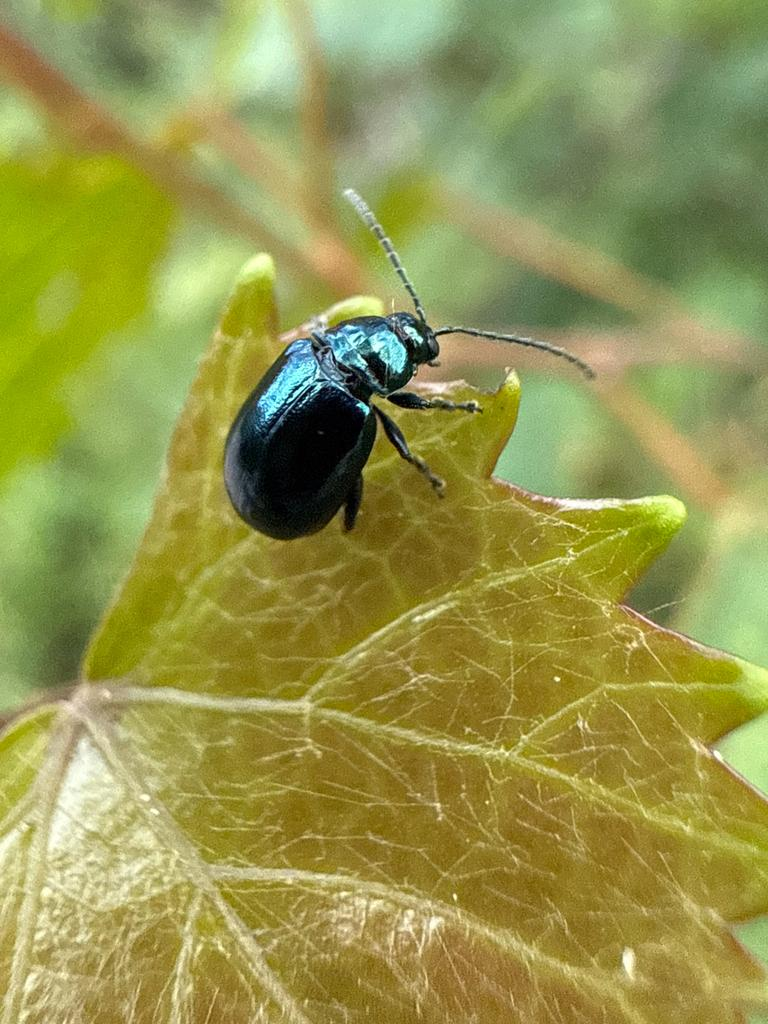flea_beetle: (152, 172, 612, 602)
